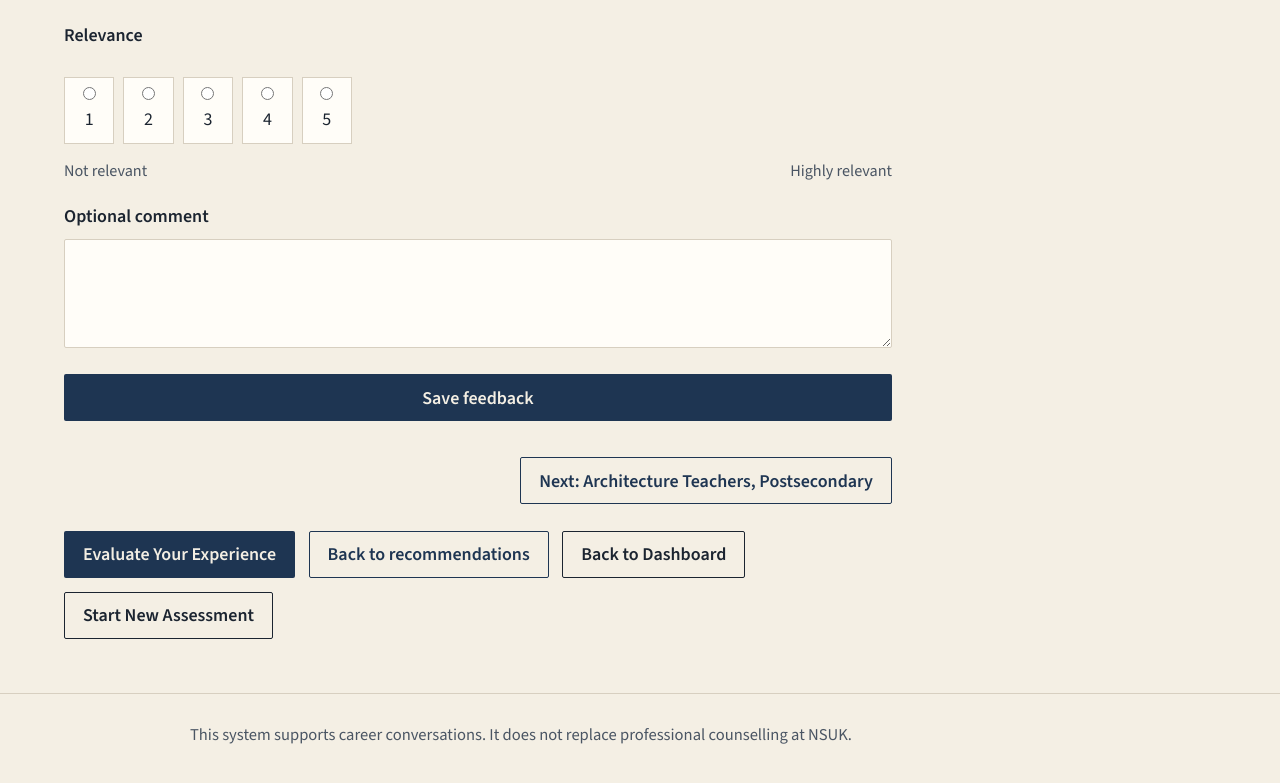
it: requires a rating before submission and then saves feedback
The image size is (1280, 783).
(page scrolled)
Click the button "Save feedback".
click(478, 398)  # box [64, 374, 892, 421]
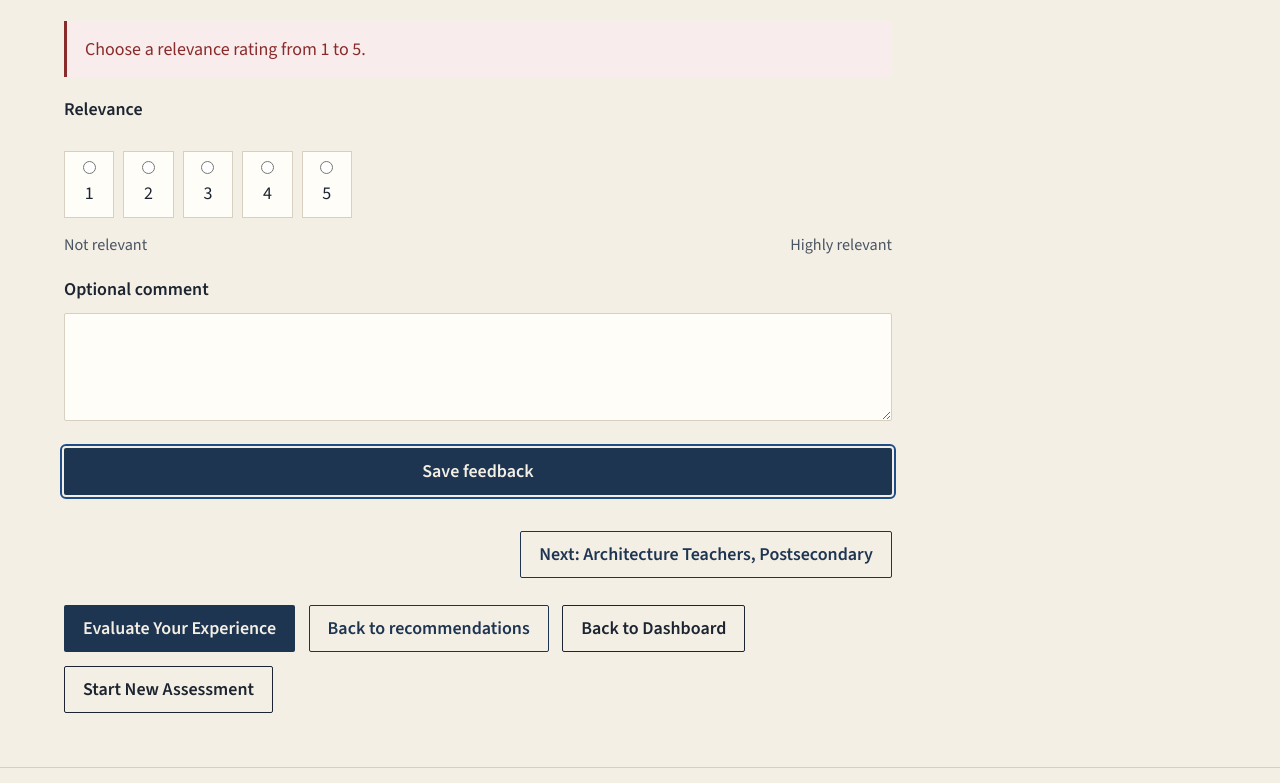
Now the message reads "Choose a relevance rating from 1 to 5.", box [85, 37, 366, 61]
Click the radio button labelled "4".
click(267, 167)  # box [261, 161, 274, 174]
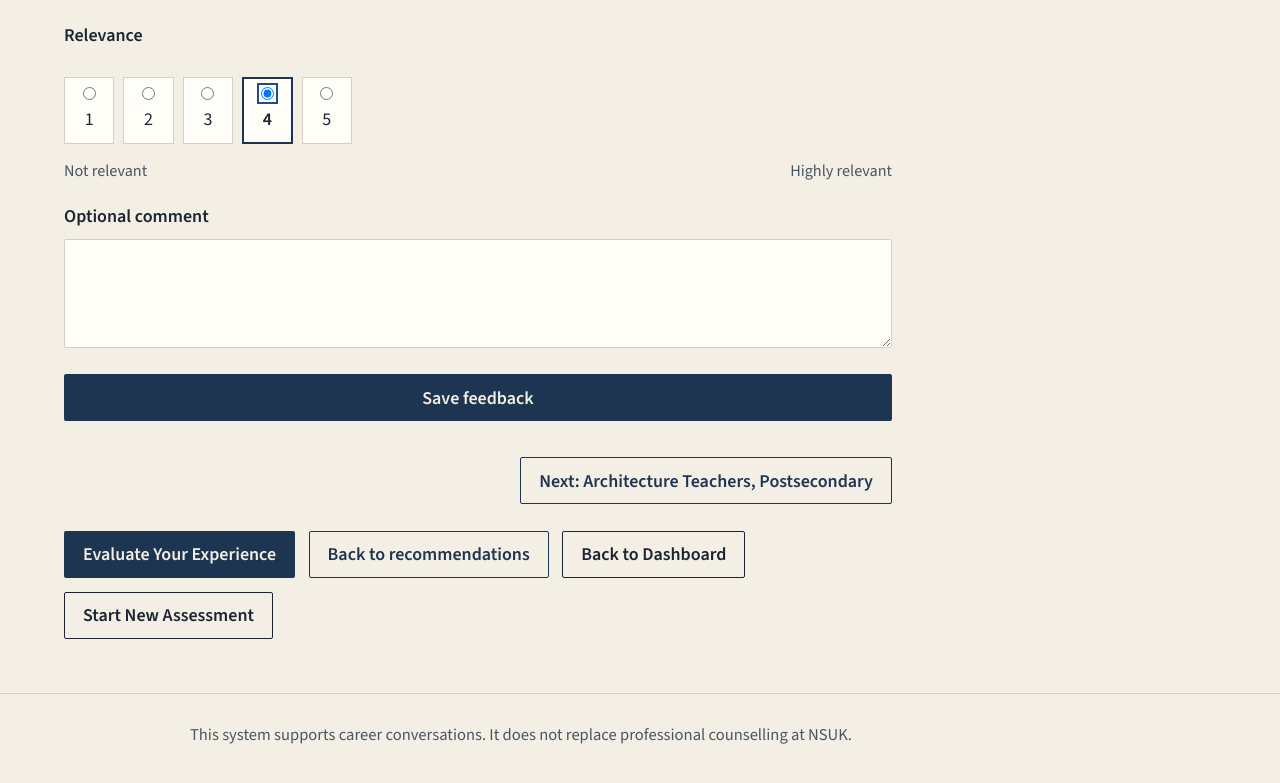
Click the button "Save feedback".
click(478, 398)  # box [64, 374, 892, 421]
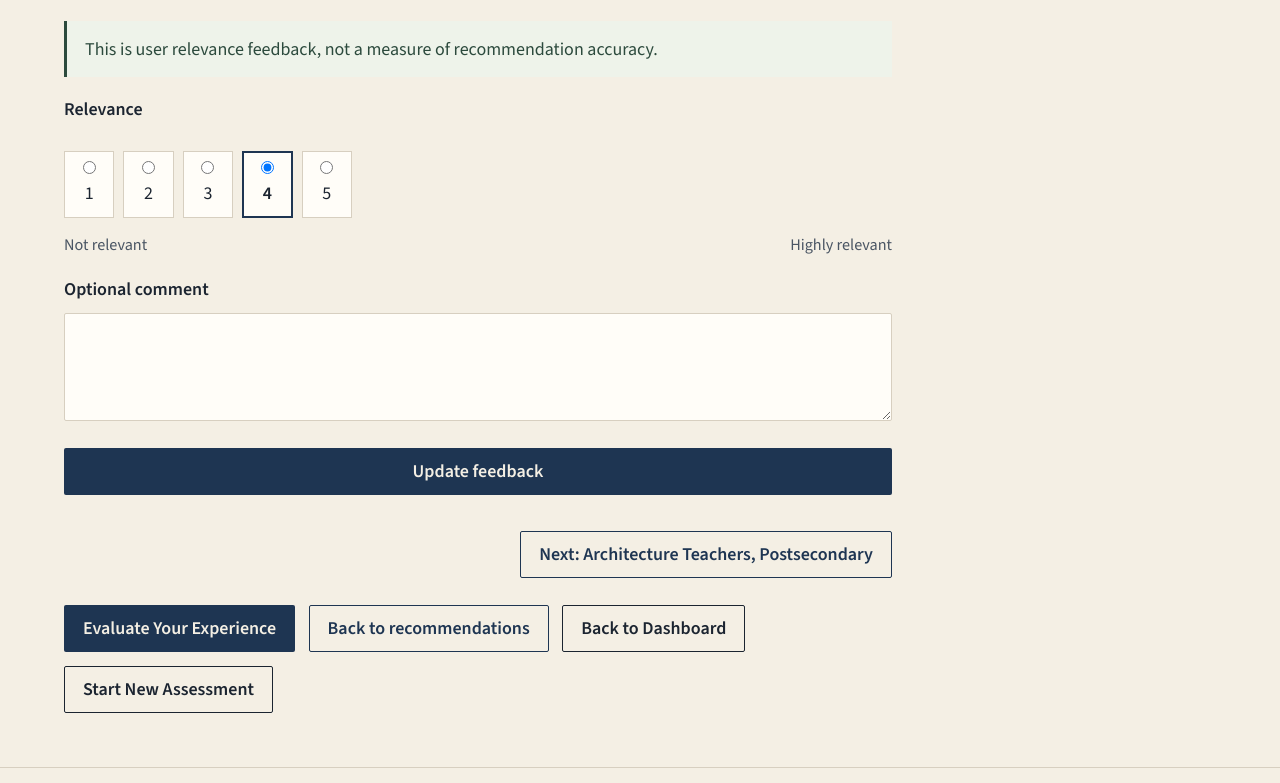
Now the message shows "user relevance feedback", box [85, 37, 658, 61]
